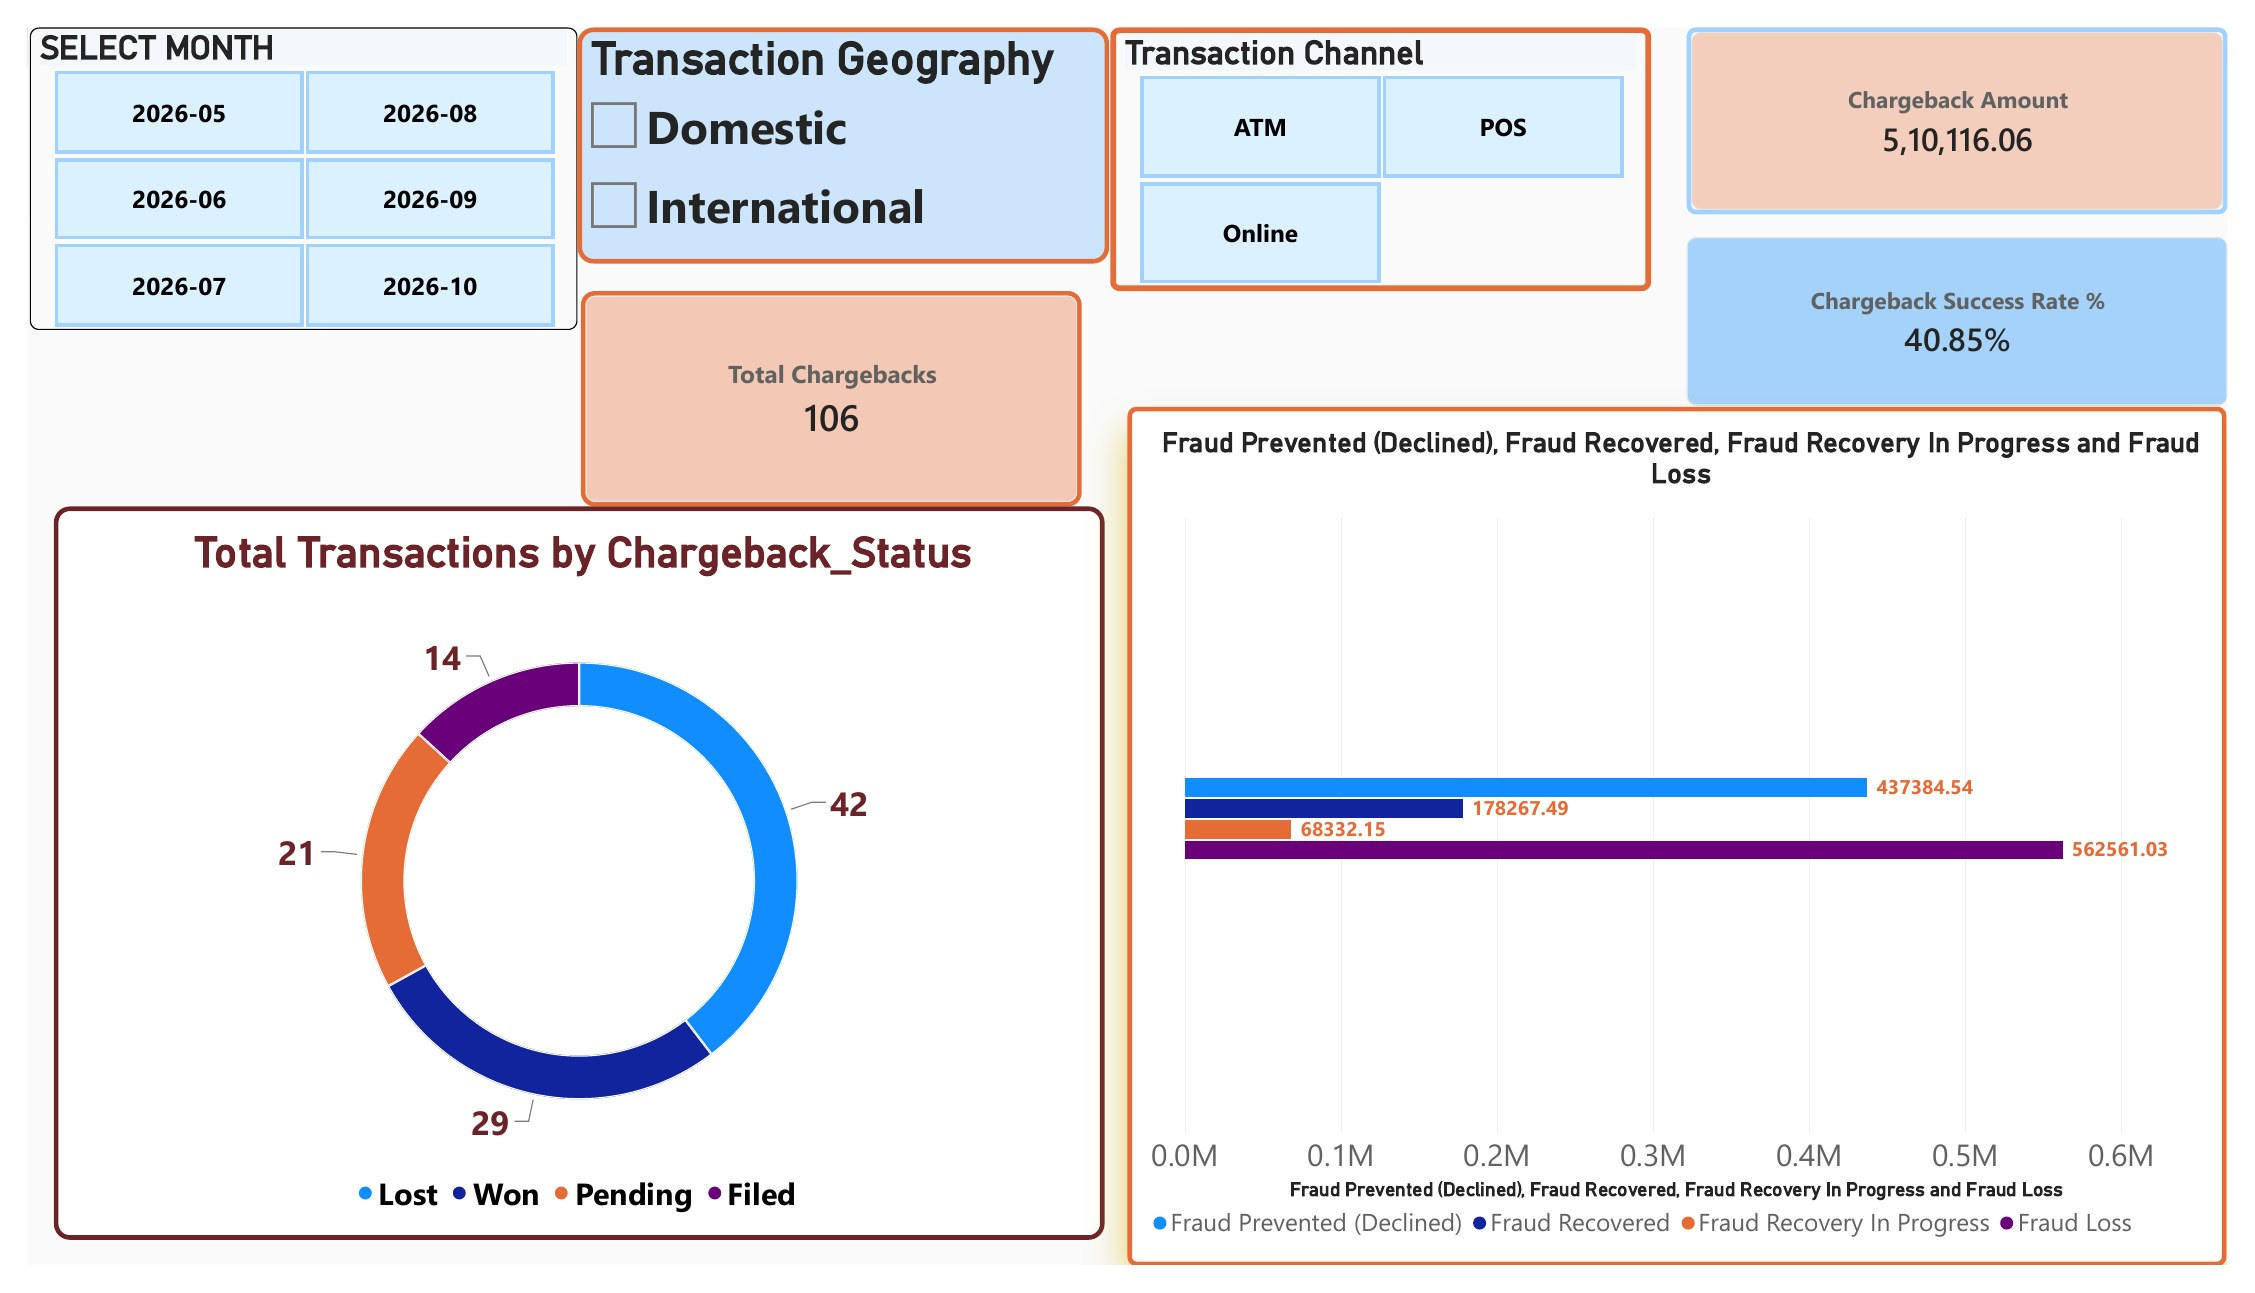

The page's visual inventory and layout, read from the dashboard file:
{"tool":"powerbi","page":{"name":"Chargeback & Loss","canvas":[1920,1080],"ordinal":4},"visuals":[{"type":"cardVisual","fields":{"Data":["cc.Chargebacks Filed"]},"box":[482.5,230,437.5,187.5],"z":0},{"type":"cardVisual","fields":{"Data":["cc.Chargeback Amount"]},"box":[1447.5,0,472.5,162.5],"z":1000},{"type":"cardVisual","fields":{"Data":["cc.Chargeback Success Rate %"]},"box":[1447.5,182.5,472.5,147.5],"z":2000},{"type":"donutChart","fields":{"Category":["cc.Chargeback_Status"],"Y":["cc.Total Transactions"]},"box":[22.5,417.5,917.5,640],"z":3000},{"type":"clusteredBarChart","fields":{"Y":["cc.Fraud Prevented (Declined)","cc.Fraud Recovered","cc.Fraud Recovery In Progress","cc.Fraud Loss"]},"box":[959.6,331.1,959.6,750.1],"z":4000},{"type":"slicer","fields":{"Values":["cc.Txn_Month"]},"box":[2,0,478.4,264.5],"z":5000},{"type":"slicer","fields":{"Values":["cc.Transaction_Channel"]},"box":[945,0,471.7,230],"z":6000},{"type":"slicer","fields":{"Values":["cc.Domestic_International_Flag"]},"box":[480,0,464,206],"z":7000}]}

Visuals, with their boxes in screenshot pixels (x1, y1, x2, y2), scaled from the page's 1920x1080 canvas onto the 2255x1293 screenshot:
cardVisual - cc.Chargebacks Filed: 567 275 1081 500
cardVisual - cc.Chargeback Amount: 1700 0 2254 195
cardVisual - cc.Chargeback Success Rate %: 1700 218 2254 395
donutChart - cc.Chargeback_Status x cc.Total Transactions: 26 500 1104 1266
clusteredBarChart - cc.Fraud Prevented (Declined) x cc.Fraud Recovered: 1127 396 2254 1292
slicer - cc.Txn_Month: 2 0 564 317
slicer - cc.Transaction_Channel: 1110 0 1664 275
slicer - cc.Domestic_International_Flag: 564 0 1109 247
